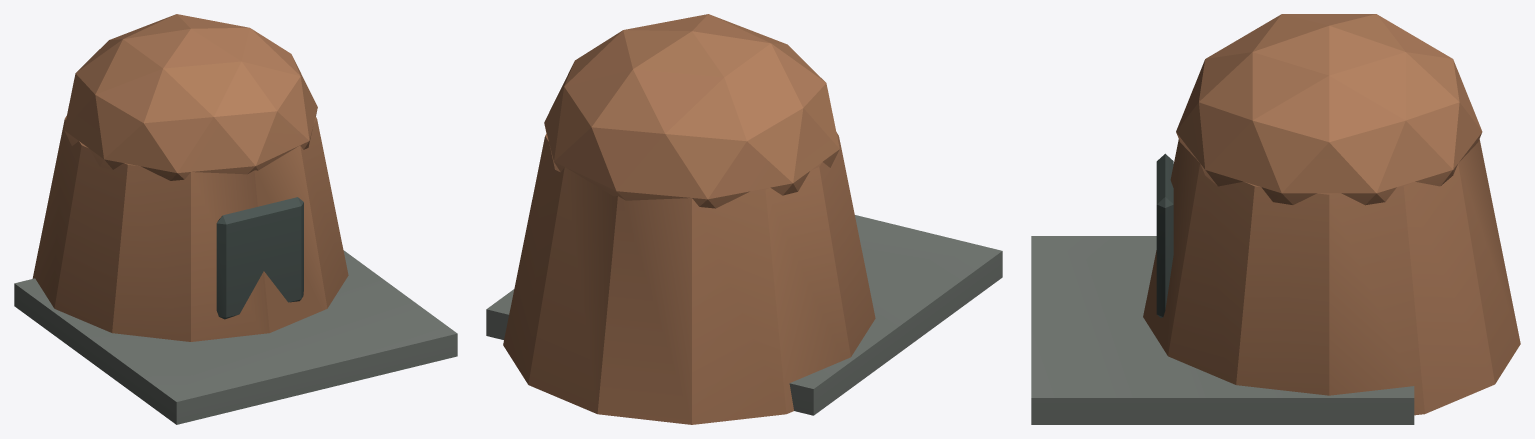
File: oven.glb
The picture shows the model from 3 angles, left to right: view 1: azimuth 30°, elevation 25°; view 2: azimuth 150°, elevation 25°; view 3: azimuth 270°, elevation 25°; orthographic projection. The views are drawn at different scales.
Visible parts, largest first — view 1: oven; view 2: oven; view 3: oven.
Part boxes in pixels (x1,y1,x2,y2): oven: [14, 14, 457, 424]; oven: [486, 14, 1002, 424]; oven: [1031, 14, 1520, 424].
Bounding box in the file's own units: 1.8 × 1.65 × 2.3.
